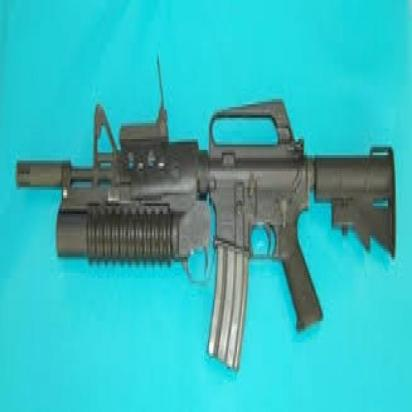Gun: (11, 96, 402, 378)
